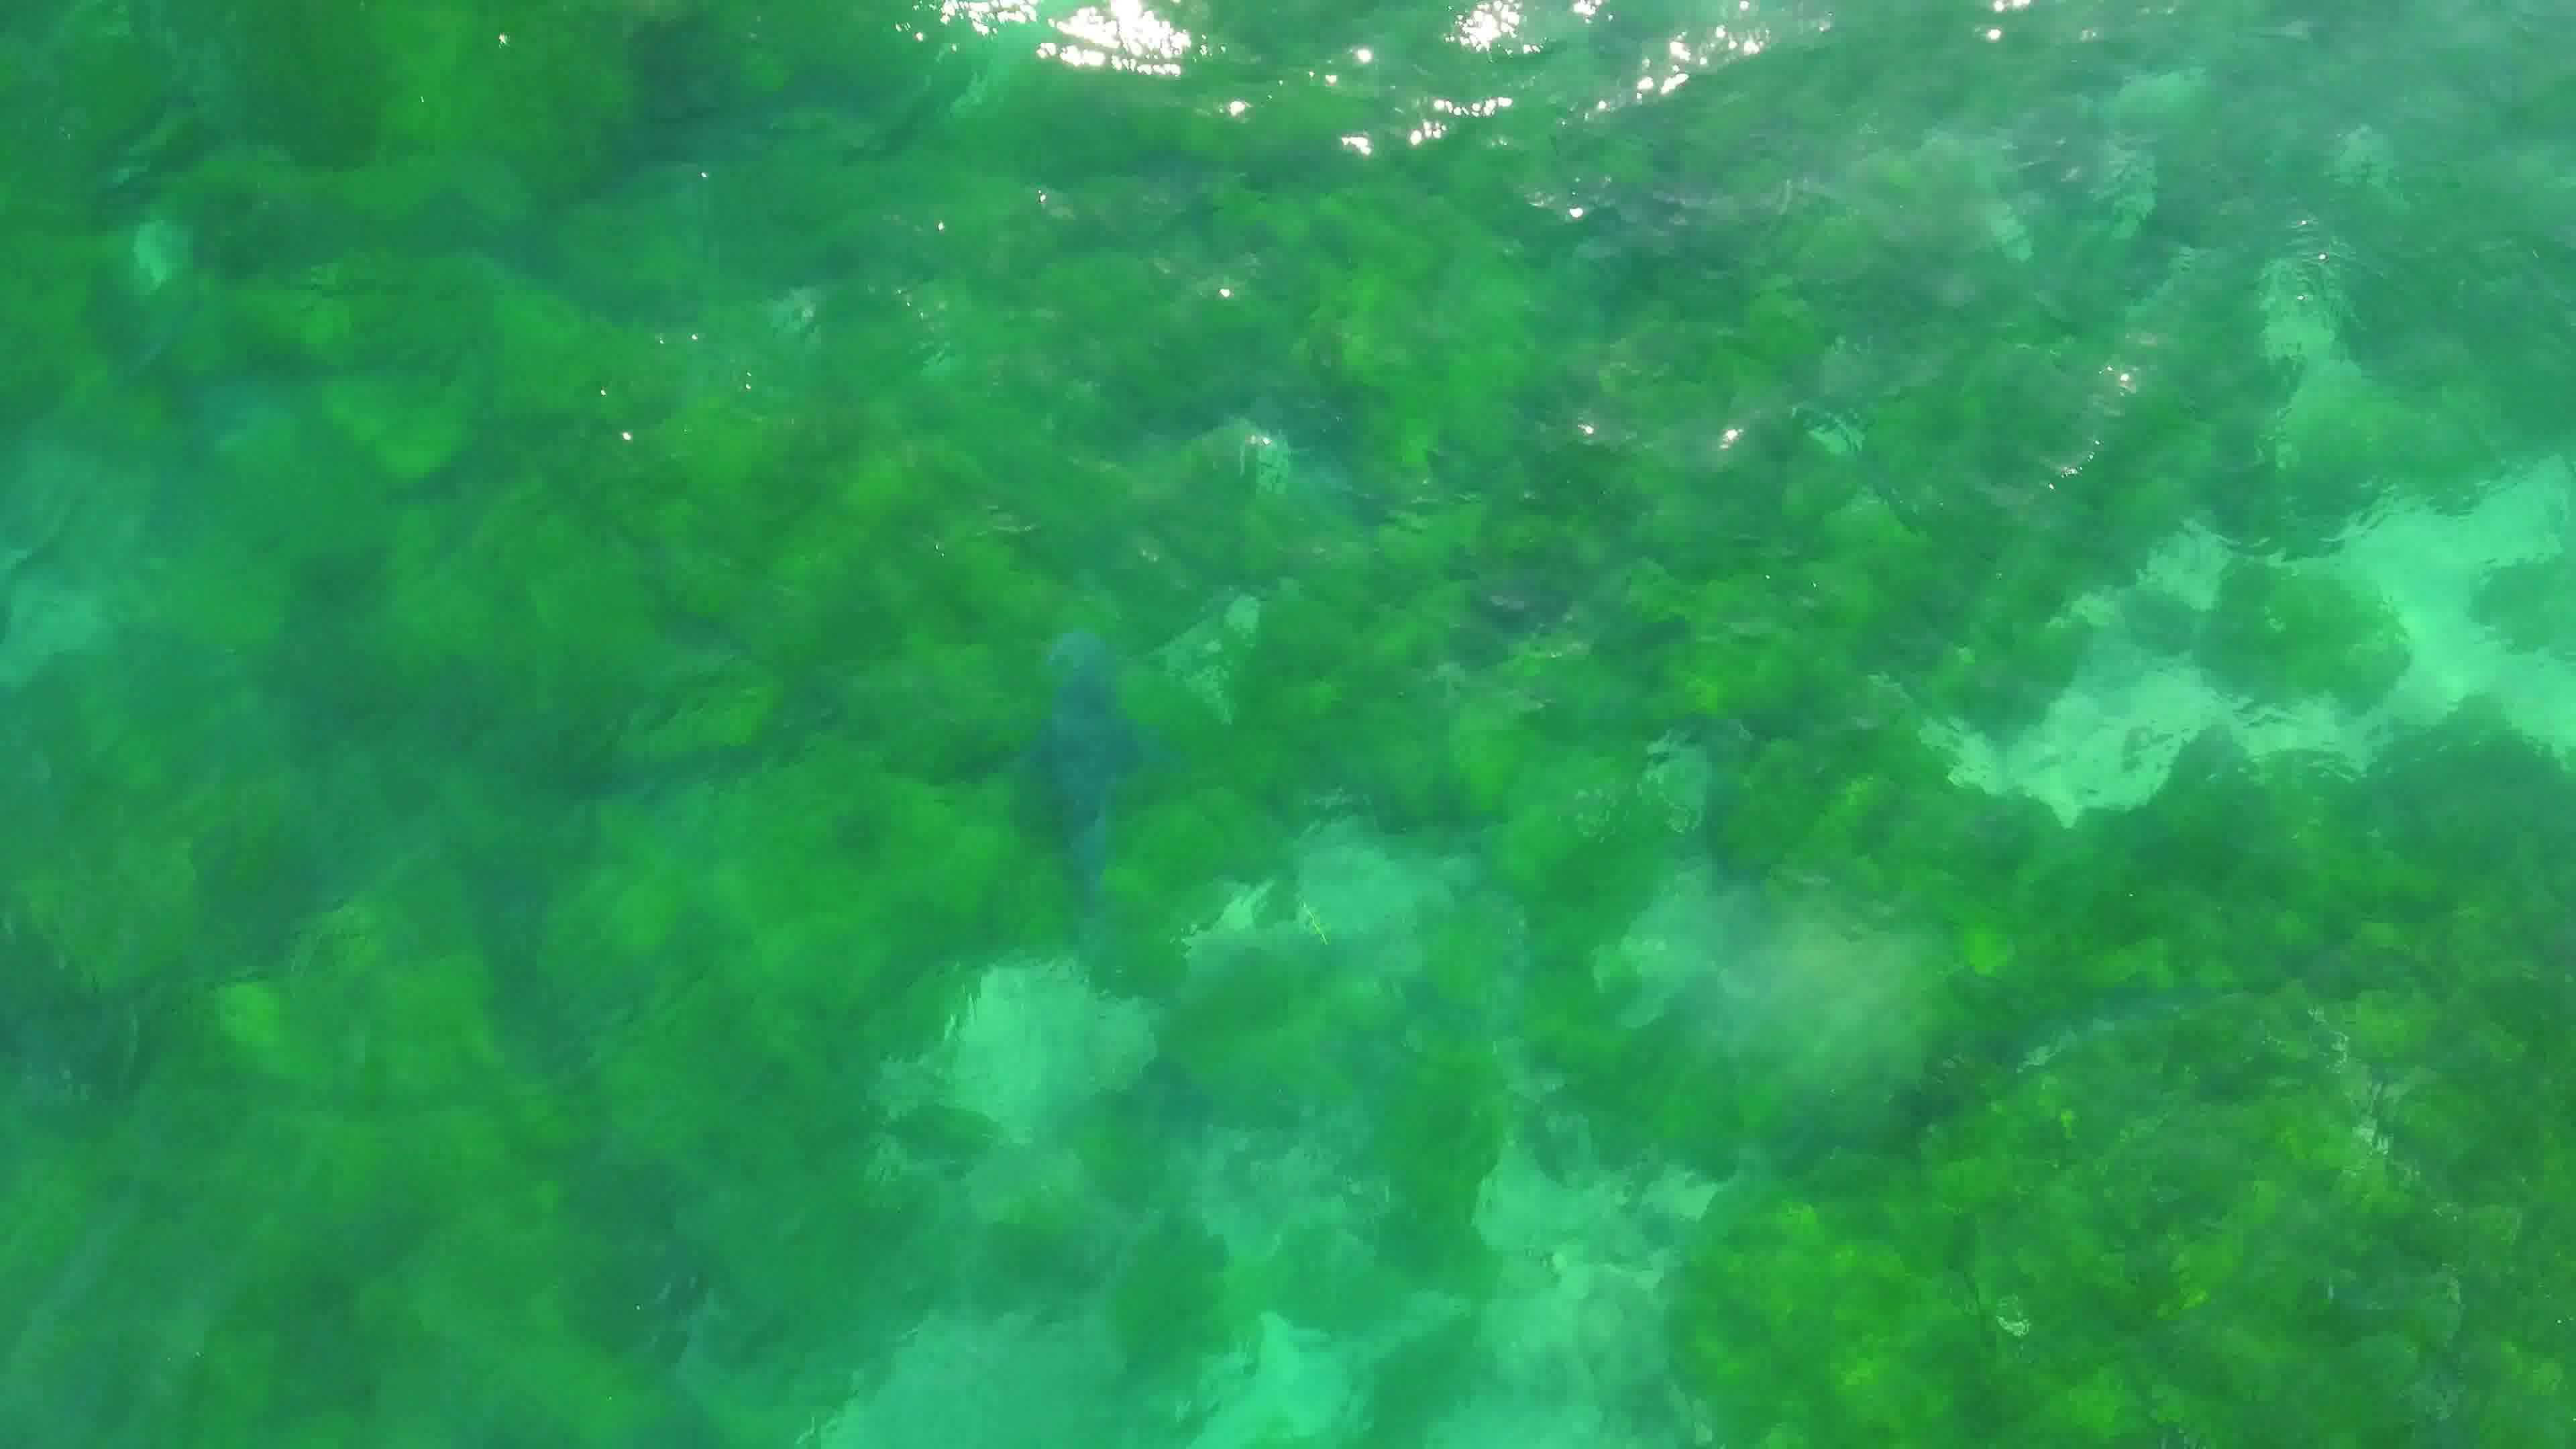shark: (998, 633, 1182, 936)
